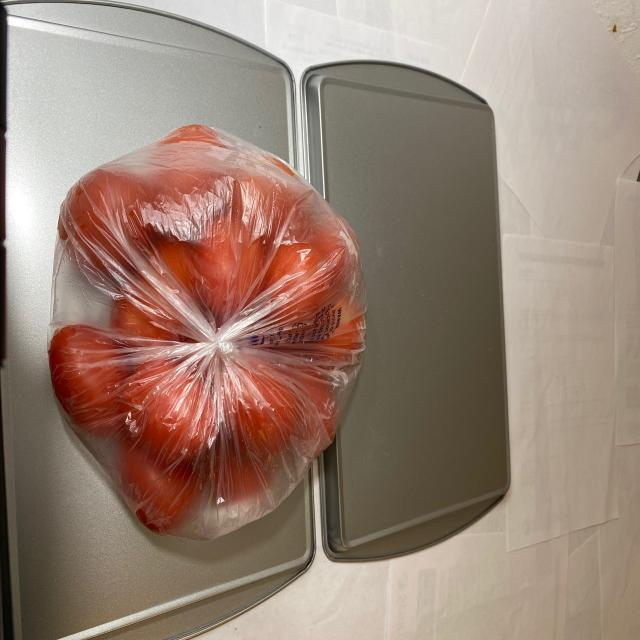tomato: (51, 121, 363, 538)
